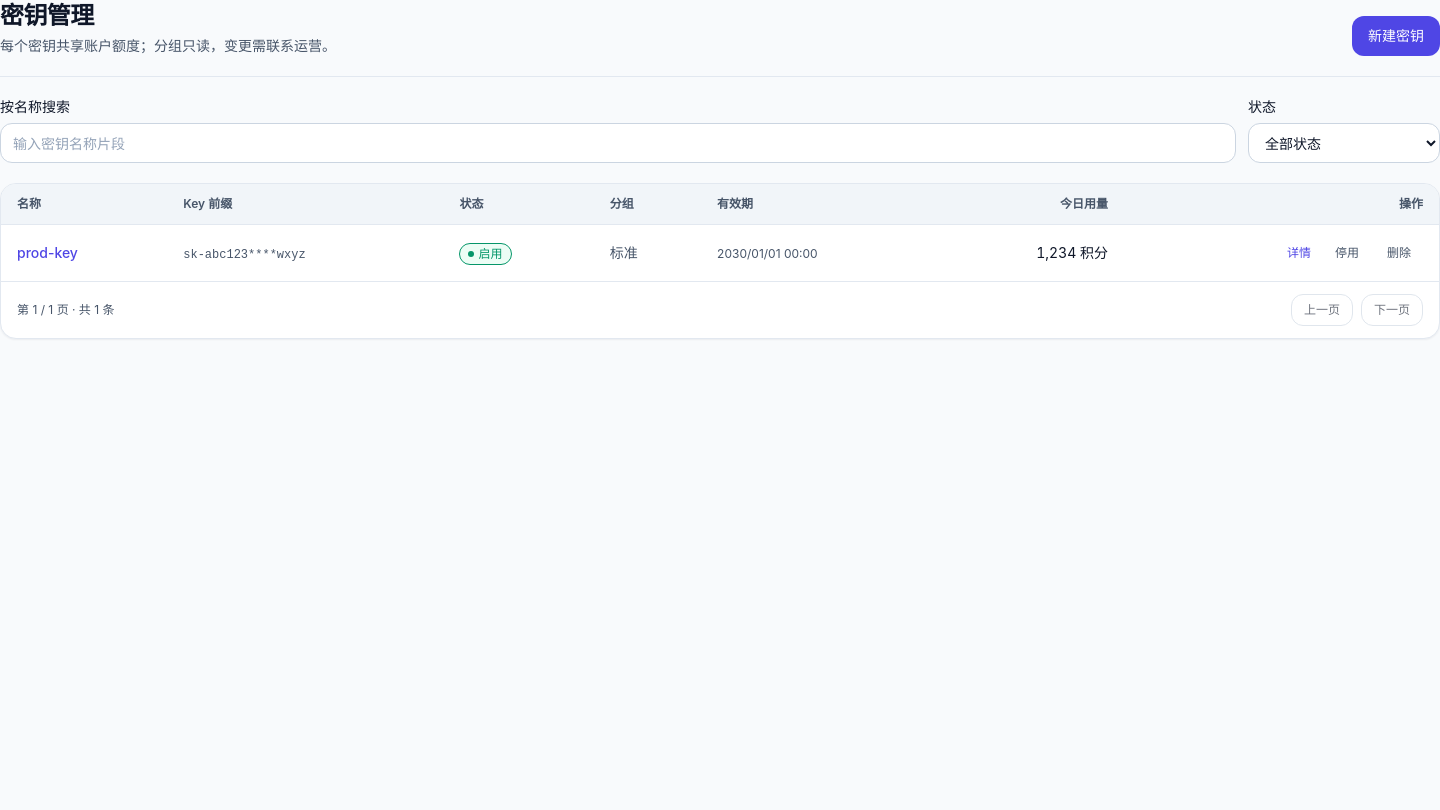
KeysPage › A6 / F6-4: cancelling the disable confirmation leaves the status unchanged
The image size is (1440, 810).
Expected: the link "prod-key" is shown, [17,244,78,261]
What coordinates should you click on to do the following:
click the button "停用"
I would click on:
 (1347, 253)
Its box is [1323,237,1371,269].
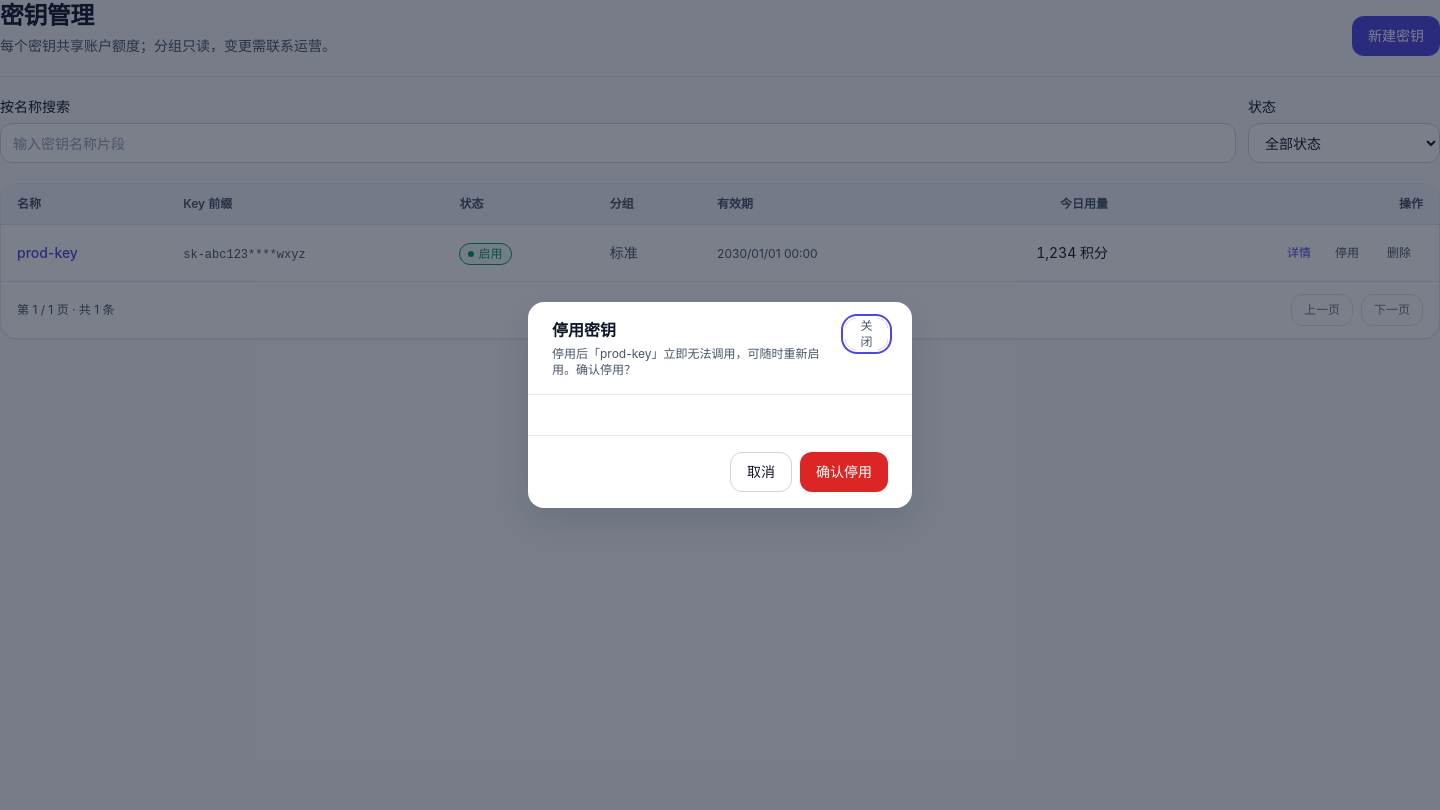
Result: the heading "停用密钥" is shown at [552,320,616,340]
What coordinates should you click on to do the following:
click the button "取消"
I would click on:
 (761, 472)
Its box is [730,452,792,492].
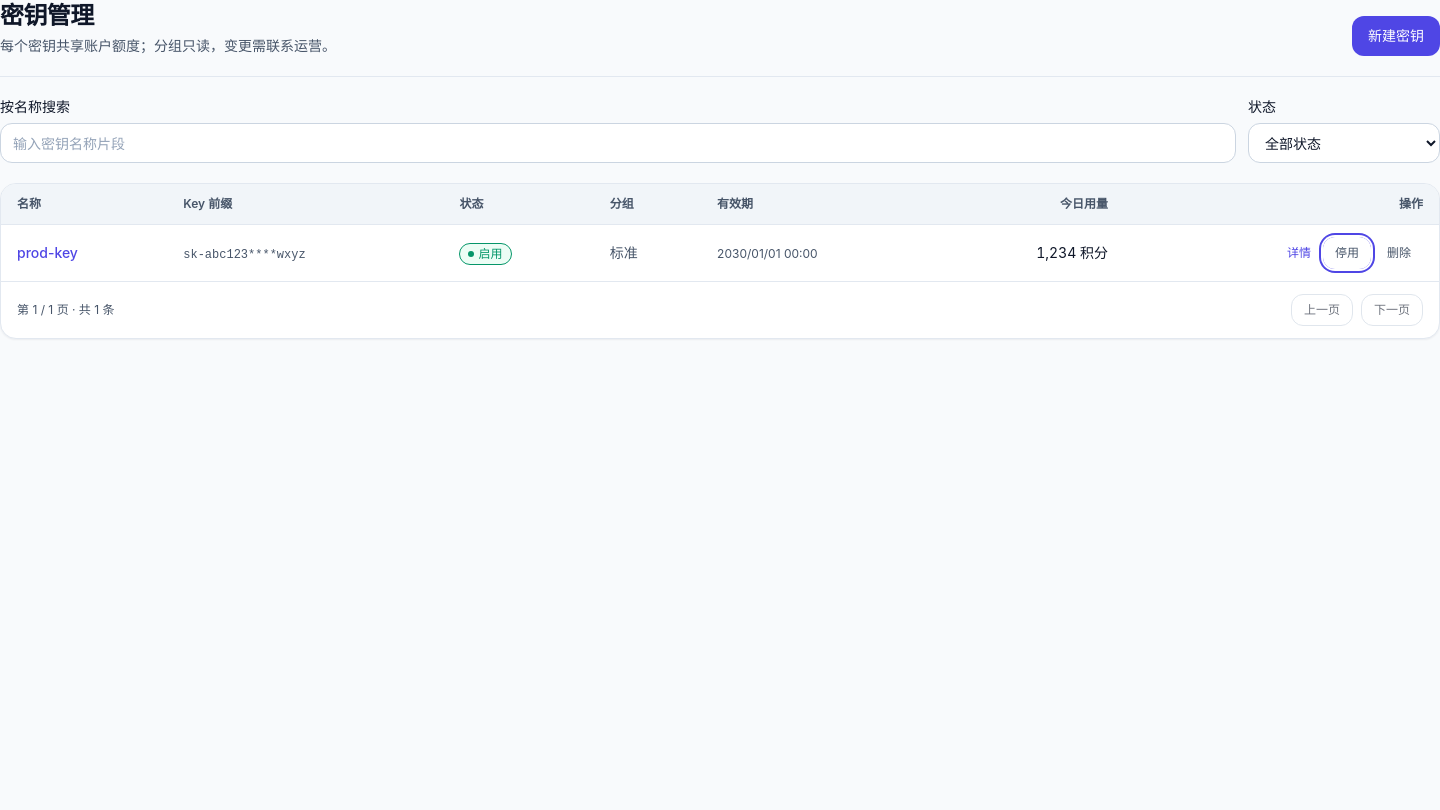
Expected: the text "启用" is shown, [460,242,512,264]
Result: the heading "停用密钥" is gone
